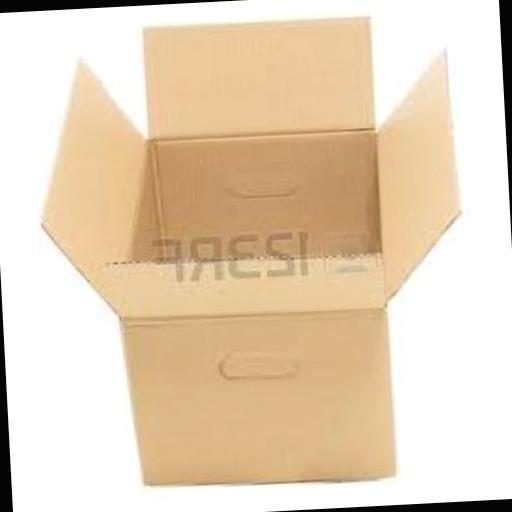cardboard: (35, 8, 476, 493)
